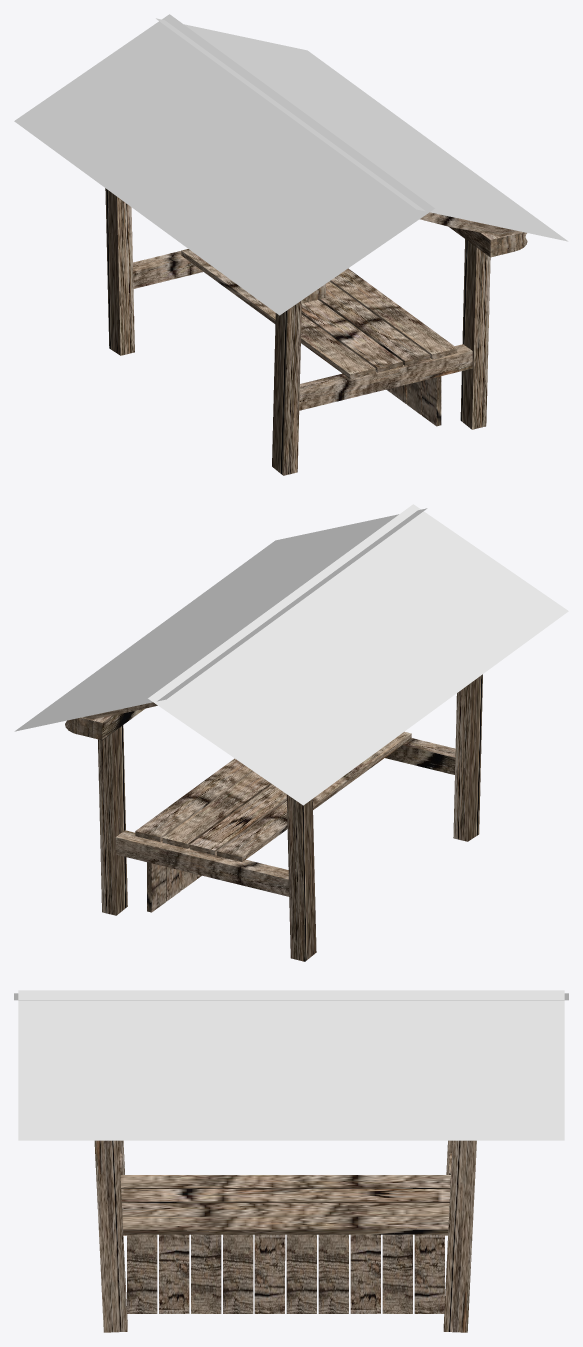
File: market-stall3.fbx
The picture shows the model from 3 angles, top to bottom: view 1: azimuth 30°, elevation 25°; view 2: azimuth 150°, elevation 25°; view 3: azimuth 270°, elevation 25°; orthographic projection. The views are drawn at different scales.
Visible parts, largest first — view 1: Plane.000, Cube.042; view 2: Plane.000, Cube.042; view 3: Plane.000, Cube.042.
Boxes of the visible parts, bbox=[...] form: Plane.000: bbox=[14, 14, 568, 315]; Cube.042: bbox=[105, 188, 527, 475]; Plane.000: bbox=[14, 504, 568, 805]; Cube.042: bbox=[65, 674, 482, 961]; Plane.000: bbox=[14, 990, 568, 1140]; Cube.042: bbox=[94, 1140, 476, 1332].
Bounding box in the file's own units: 352 × 316 × 556.
